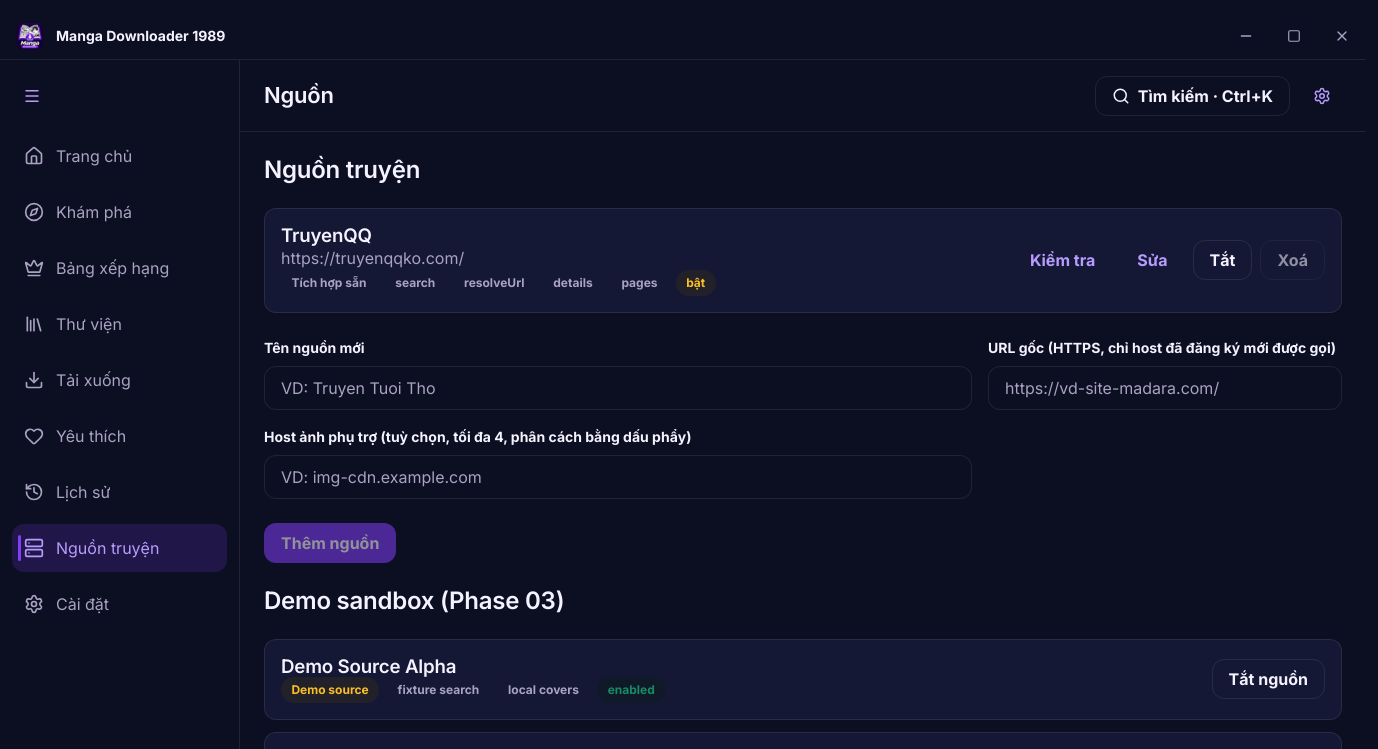
Test: Kiểm tra nguồn › shows latency and result count on the row
The image size is (1378, 749).
What coordinates should you click on to do the following:
click the button "Kiểm tra"
I would click on:
 (1063, 260)
Its box is [1013,240,1112,280].
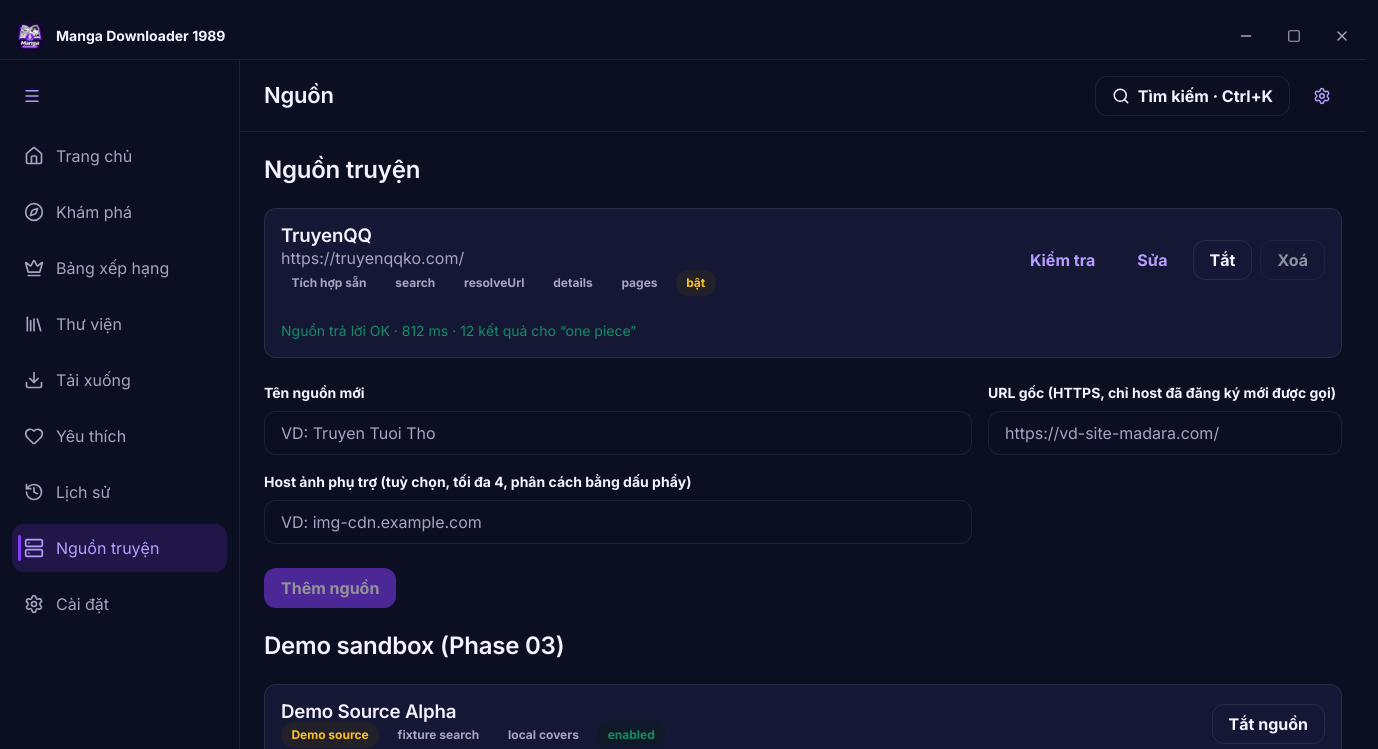
Expected: the text "Nguồn trả lời OK · 812 ms · 12 kết quả cho “one piece”" is shown, [281,320,636,341]
